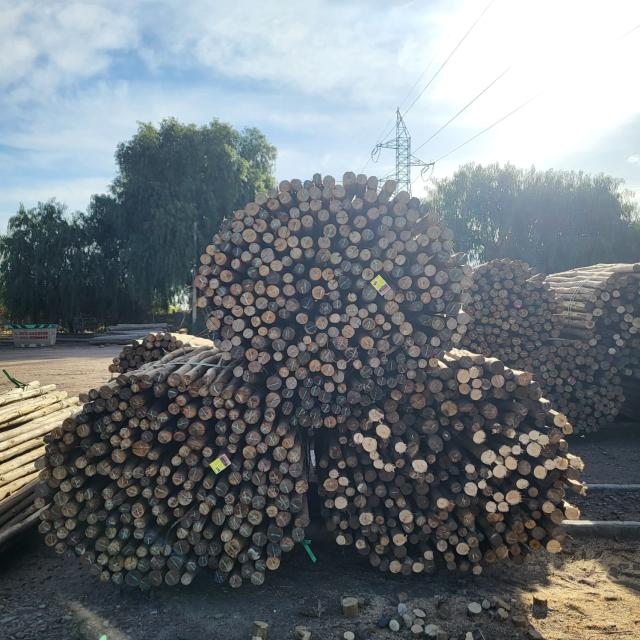package: (188, 172, 472, 426), (38, 366, 312, 592), (312, 354, 587, 576), (504, 341, 626, 435), (472, 257, 566, 366), (579, 262, 640, 379)
